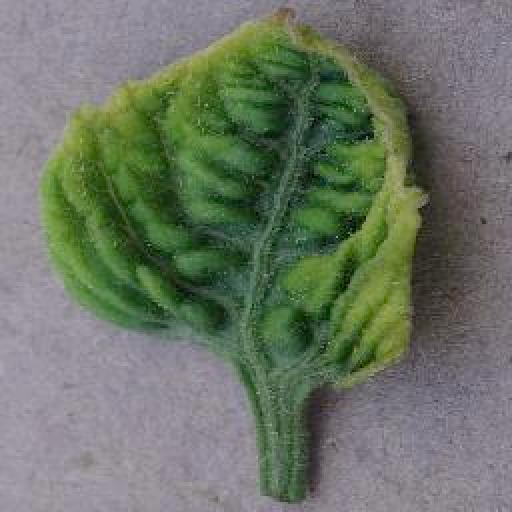disease_tomato: (43, 8, 433, 386)
